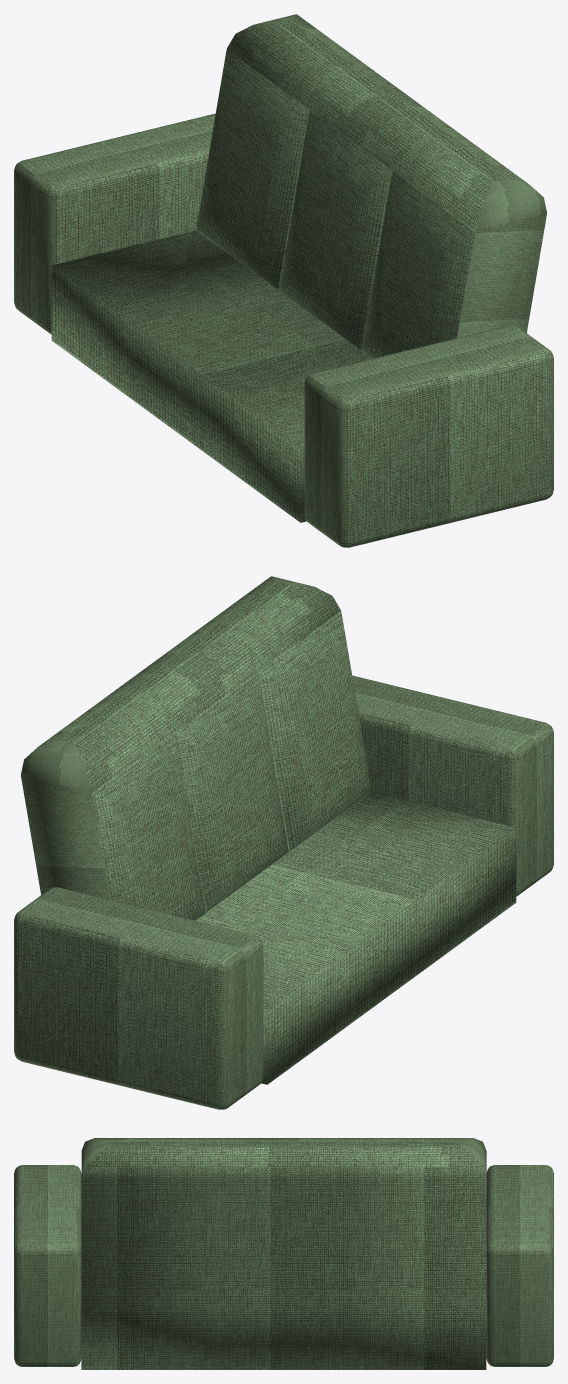
Rendered from Sofá.fbx.
The picture shows the model from 3 angles, top to bottom: view 1: azimuth 30°, elevation 25°; view 2: azimuth 150°, elevation 25°; view 3: azimuth 270°, elevation 25°; orthographic projection. The views are drawn at different scales.
Visible parts, largest first — view 1: Cube.033; view 2: Cube.033; view 3: Cube.033.
Part boxes in pixels (x1=…): Cube.033: x1=14, y1=14, x2=553, y2=547; Cube.033: x1=14, y1=576, x2=553, y2=1109; Cube.033: x1=14, y1=1138, x2=553, y2=1369.
Bounding box in the file's own units: 343 × 370 × 800.
